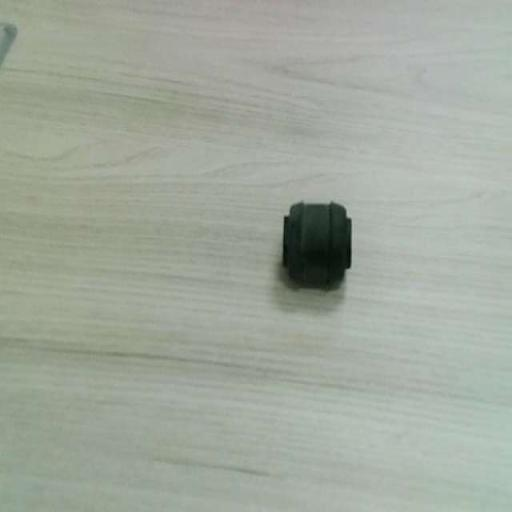peca: (282, 203, 351, 287)
